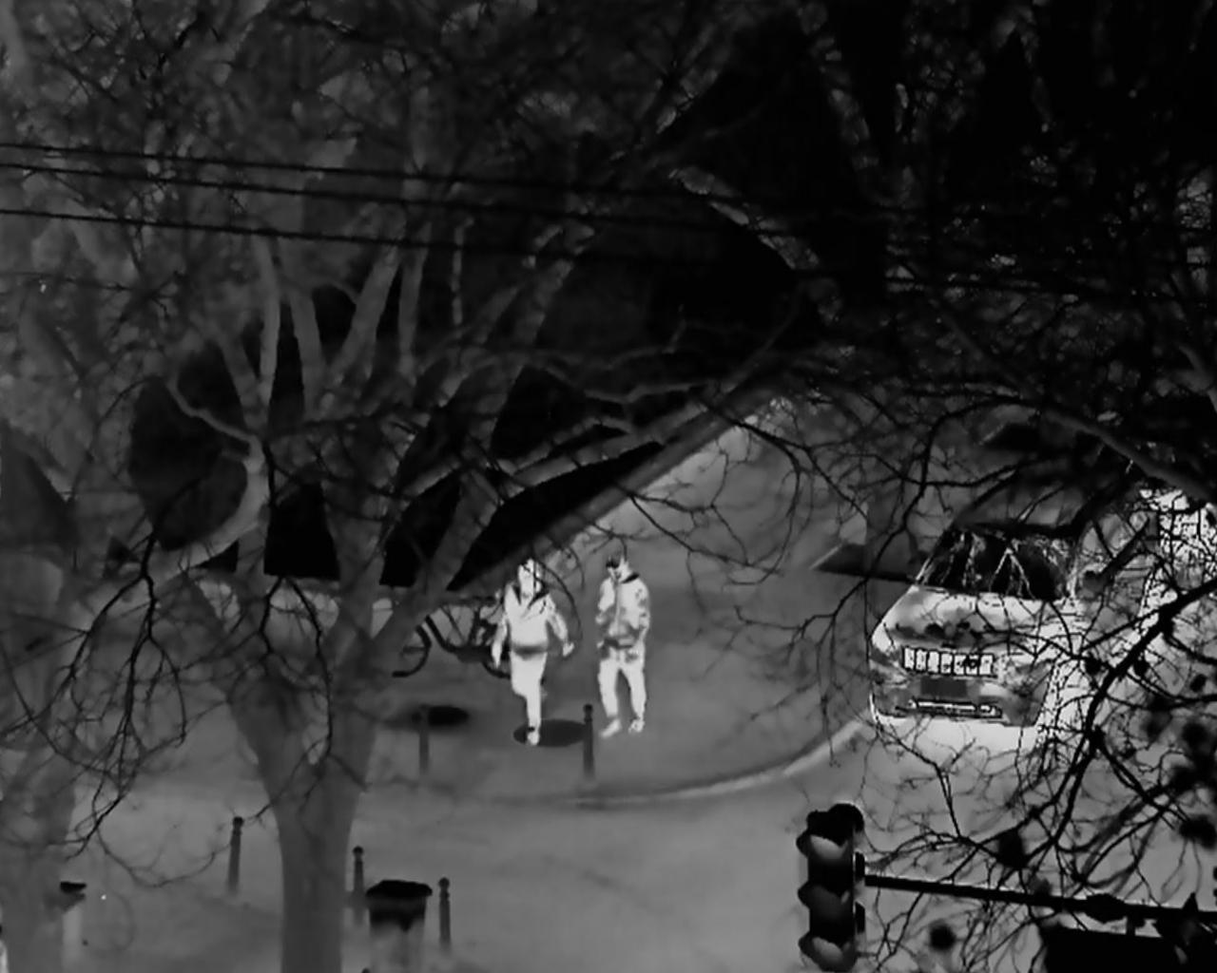person: (489, 557, 575, 746), (594, 554, 651, 736)
